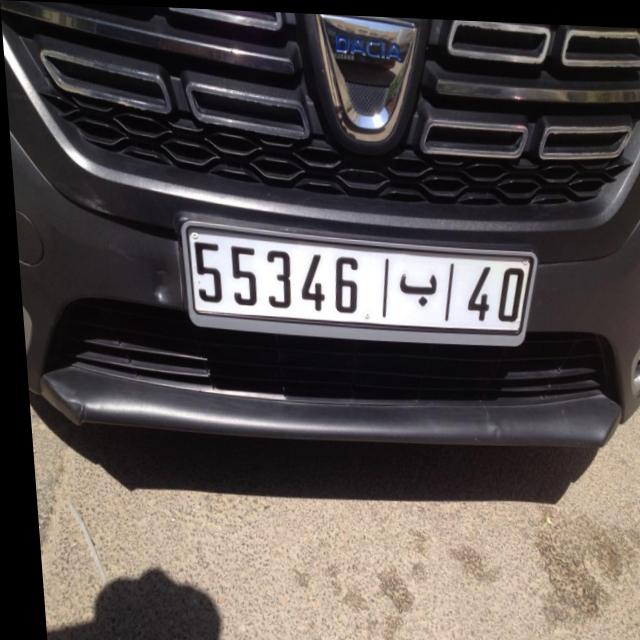License-Plate: (178, 219, 533, 341)
